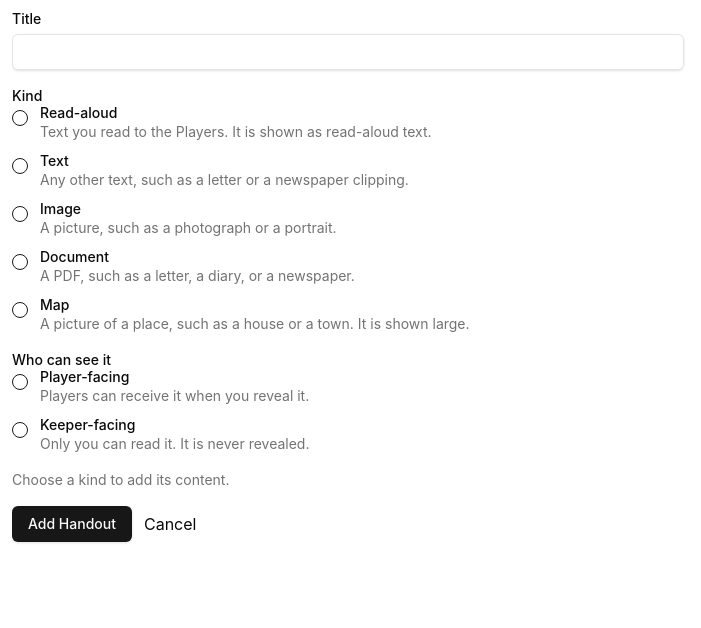
Scenario: HandoutForm › file kinds › offers five kinds on the add page and shows the image field for a Map without moving focus (SP-UX-77)
Click the radio button named "Map" next to "Map".
click(20, 310)  # box [12,302,28,318]
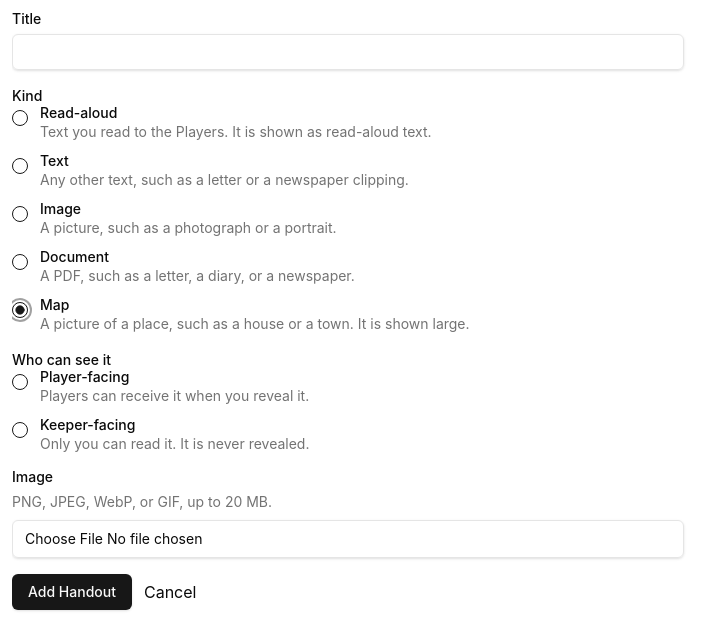
Check: the text "PNG, JPEG, WebP, or GIF, up to 20 MB." is shown, box [12,493,272,510]
